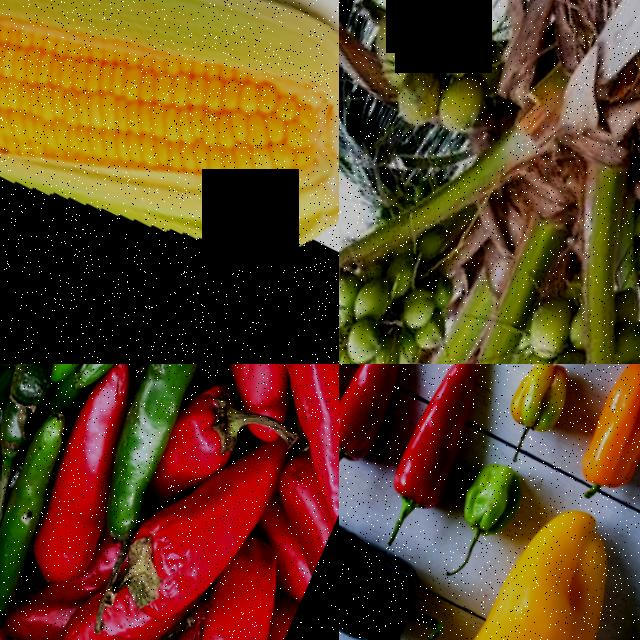chilli: (2, 364, 159, 590), (369, 364, 510, 533), (339, 364, 428, 481)
coconuts: (339, 0, 550, 146), (339, 212, 473, 364), (473, 284, 635, 364)
corn: (0, 0, 339, 330)
